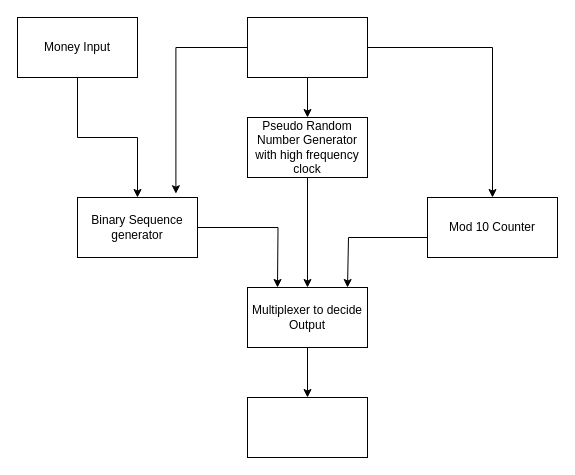
Image size: 575x475. Some labels were removed from this diagram. The centre of each missing label's shape, as x and y in pixels:
7 Segment Display's: (307,427)
Start Button: (307,47)
